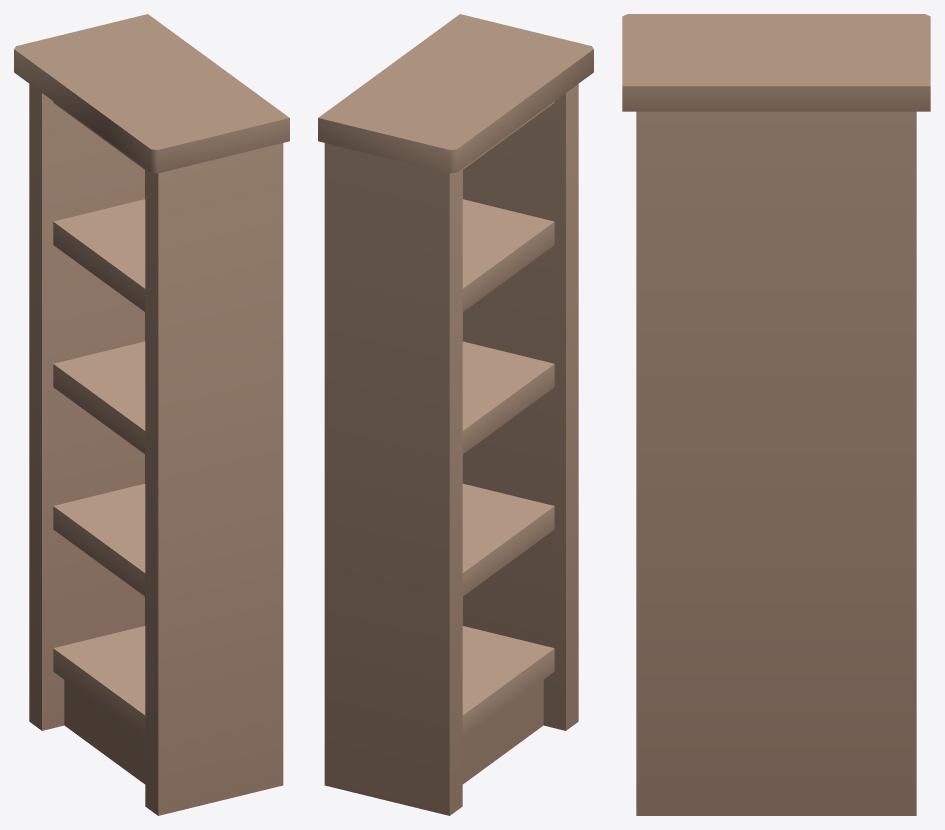
File: cabinet-bookcase-classic-narrow.glb
The picture shows the model from 3 angles, left to right: view 1: azimuth 30°, elevation 25°; view 2: azimuth 150°, elevation 25°; view 3: azimuth 270°, elevation 25°; orthographic projection. The views are drawn at different scales.
Visible parts, largest first — view 1: cabinet-bookcase-classic-narrow; view 2: cabinet-bookcase-classic-narrow; view 3: cabinet-bookcase-classic-narrow.
Boxes of the visible parts, left/top/right/bottom form: cabinet-bookcase-classic-narrow: left=14, top=14, right=289, bottom=815; cabinet-bookcase-classic-narrow: left=318, top=14, right=593, bottom=815; cabinet-bookcase-classic-narrow: left=622, top=14, right=930, bottom=815.
Bounding box in the file's own units: 0.305 × 1.44 × 0.55.
